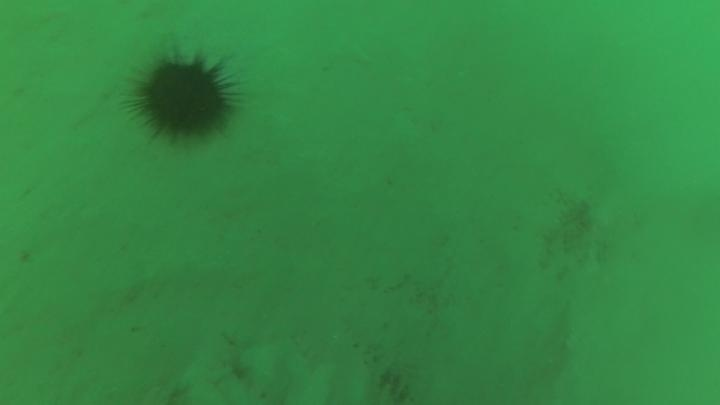echinus: (122, 44, 244, 146)
